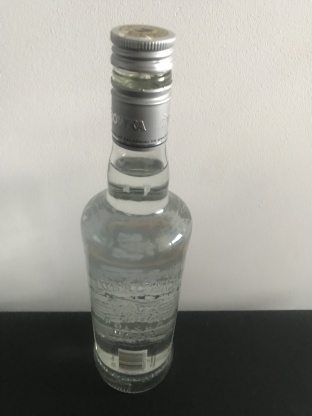nakretka: (108, 20, 177, 151)
